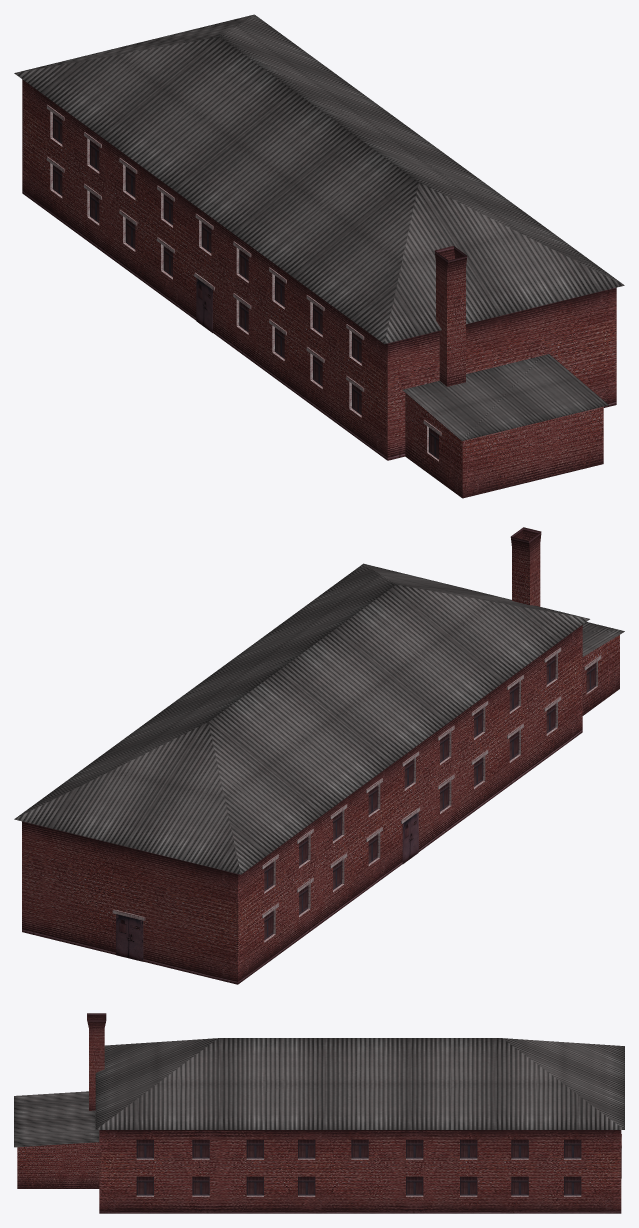
The model's file is Dhz_zsfz_03.FBX.
The picture shows the model from 3 angles, top to bottom: view 1: azimuth 30°, elevation 25°; view 2: azimuth 150°, elevation 25°; view 3: azimuth 270°, elevation 25°; orthographic projection. The views are drawn at different scales.
Visible parts, largest first — view 1: Dhz_zsfz_03; view 2: Dhz_zsfz_03; view 3: Dhz_zsfz_03.
Boxes of the visible parts, left/top/right/bottom form: Dhz_zsfz_03: left=14, top=14, right=624, bottom=498; Dhz_zsfz_03: left=14, top=527, right=624, bottom=984; Dhz_zsfz_03: left=14, top=1013, right=624, bottom=1213.
Size of the model in its own units: 12.61 by 9.71 by 38.8.
